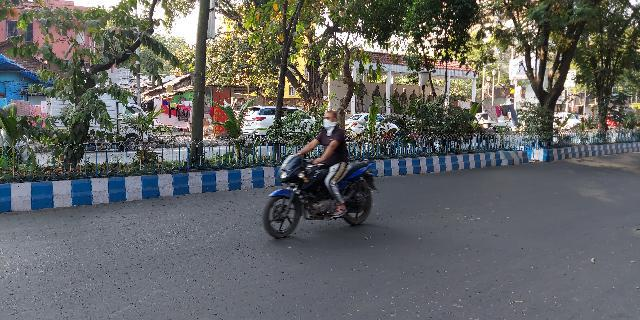Motorbike: (265, 106, 389, 245)
